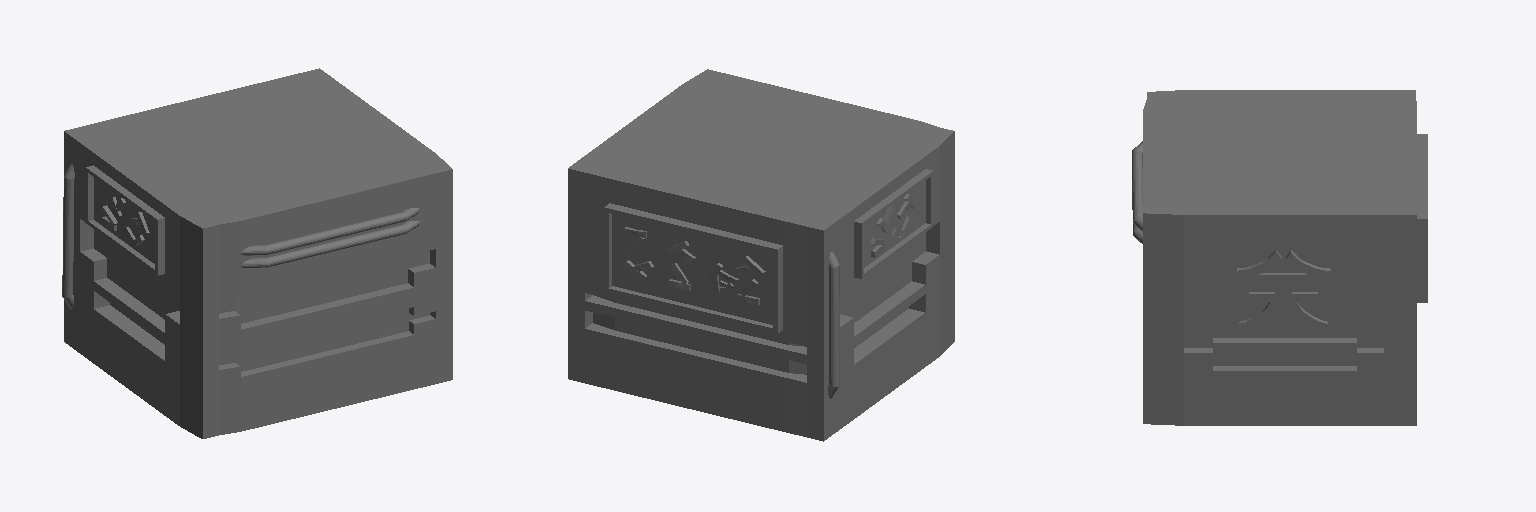
File: UpdatedBuilding1.obj
3 renders of one model, left to right at view 1: azimuth 30°, elevation 25°; view 2: azimuth 150°, elevation 25°; view 3: azimuth 270°, elevation 25°, orthographic.
Visible parts, largest first — view 1: polySurface724.001, polySurface734.001, polySurface737.001, polySurface740.001, polySurface721.001, polySurface769.001, polySurface770.001, polySurface738.001, polySurface768.001, polySurface766.002; view 2: polySurface724.001, polySurface723.001, polySurface742.001, polySurface766.002, polySurface740.001, polySurface735.001, polySurface721.001, polySurface738.001, polySurface768.001; view 3: polySurface724.001, polySurface732.001, polySurface766.002, polySurface736.001, polySurface742.001, polySurface770.001.
Part boxes in pixels (left/top/right/bottom): polySurface724.001: left=64, top=68, right=452, bottom=438; polySurface734.001: left=219, top=251, right=429, bottom=323; polySurface737.001: left=219, top=308, right=429, bottom=371; polySurface740.001: left=94, top=230, right=179, bottom=319; polySurface721.001: left=86, top=165, right=164, bottom=275; polySurface769.001: left=241, top=221, right=420, bottom=267; polySurface770.001: left=241, top=208, right=420, bottom=255; polySurface738.001: left=94, top=178, right=154, bottom=263; polySurface768.001: left=62, top=163, right=74, bottom=308; polySurface766.002: left=101, top=197, right=149, bottom=247; polySurface724.001: left=568, top=69, right=954, bottom=441; polySurface723.001: left=612, top=214, right=772, bottom=324; polySurface742.001: left=604, top=203, right=782, bottom=333; polySurface766.002: left=624, top=194, right=916, bottom=305; polySurface740.001: left=840, top=233, right=925, bottom=322; polySurface735.001: left=593, top=313, right=806, bottom=374; polySurface721.001: left=854, top=169, right=932, bottom=278; polySurface738.001: left=864, top=180, right=925, bottom=267; polySurface768.001: left=828, top=252, right=839, bottom=398; polySurface724.001: left=1143, top=90, right=1416, bottom=425; polySurface732.001: left=1213, top=239, right=1356, bottom=337; polySurface766.002: left=1237, top=250, right=1330, bottom=330; polySurface736.001: left=1213, top=353, right=1356, bottom=365; polySurface742.001: left=1417, top=134, right=1427, bottom=302; polySurface770.001: left=1132, top=141, right=1142, bottom=231.
Bounding box in the file's own units: 1.32 × 1.01 × 1.29.